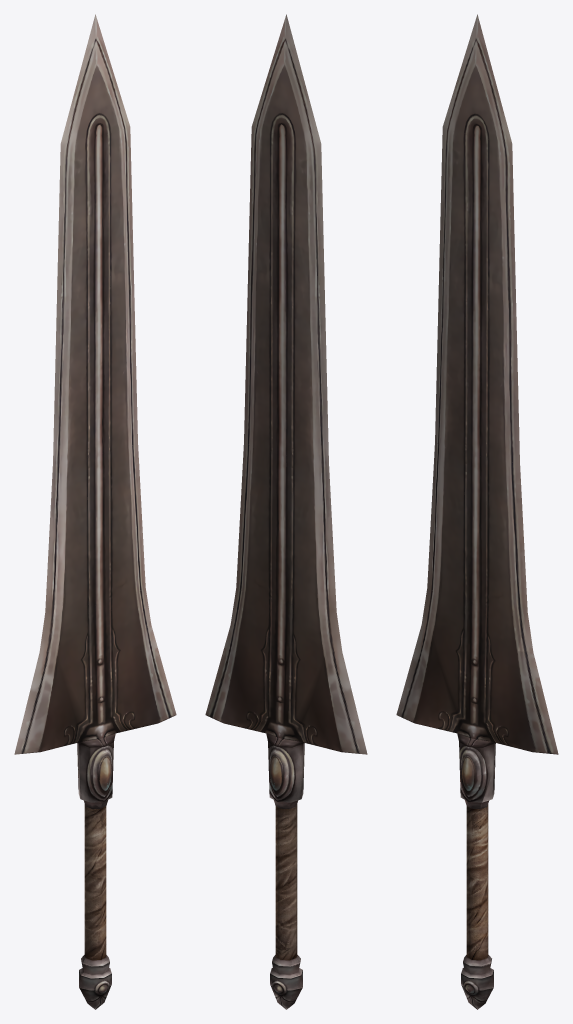
File: Weapon_5.fbx
The picture shows the model from 3 angles, left to right: view 1: azimuth 30°, elevation 25°; view 2: azimuth 150°, elevation 25°; view 3: azimuth 330°, elevation 25°; orthographic projection.
Parts seen in each view (by area): view 1: Weapon_5; view 2: Weapon_5; view 3: Weapon_5.
Boxes of the visible parts, x1=… form: Weapon_5: x1=14, y1=14, x2=176, y2=1009; Weapon_5: x1=205, y1=14, x2=367, y2=1009; Weapon_5: x1=396, y1=14, x2=558, y2=1009.
Bounding box in the file's own units: 28.12 × 7.19 × 165.
